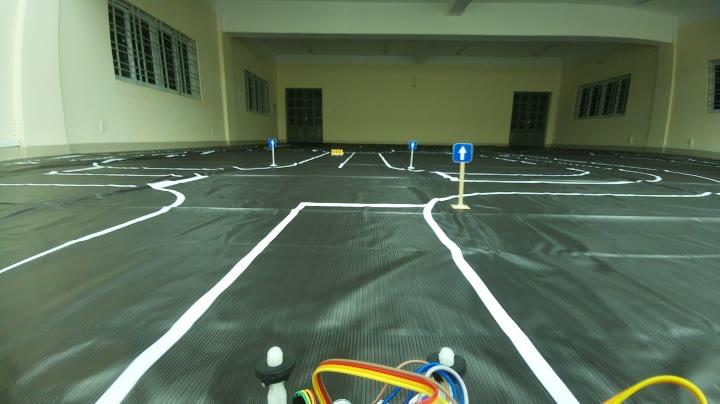onewayroad: (453, 137, 472, 171), (266, 133, 278, 148), (406, 136, 414, 154)
roadblock: (329, 147, 342, 158)
